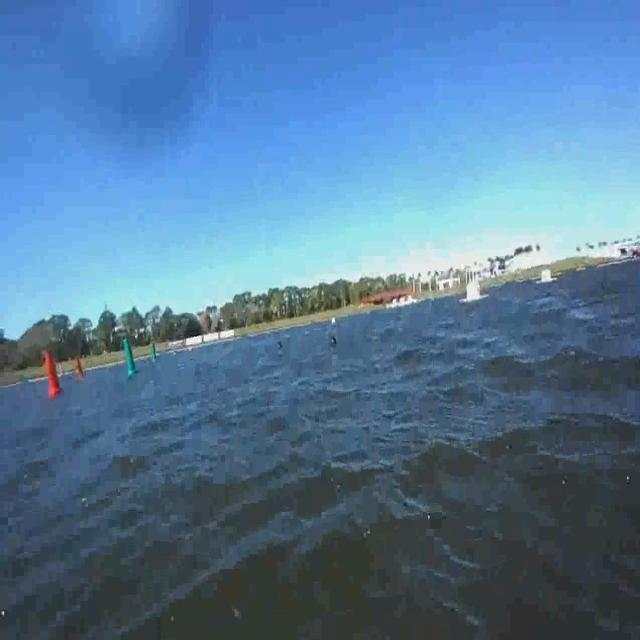black-buoy: (331, 337, 336, 348), (278, 344, 283, 351)
green-column-buoy: (123, 339, 140, 377), (151, 344, 158, 362)
red-column-buoy: (43, 349, 65, 397), (75, 357, 84, 378)
